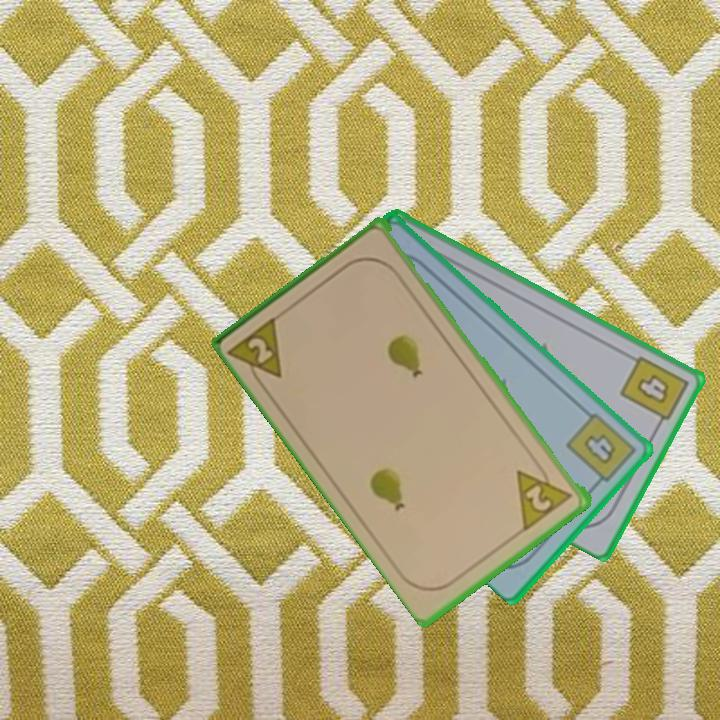2p: (513, 456, 578, 533), (227, 311, 286, 393)
4b: (562, 409, 639, 491), (616, 352, 692, 431)
